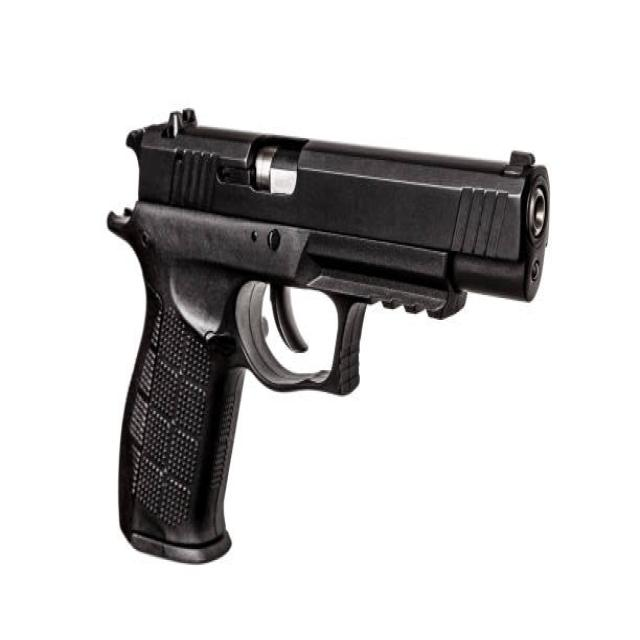pistol: (104, 103, 563, 578)
